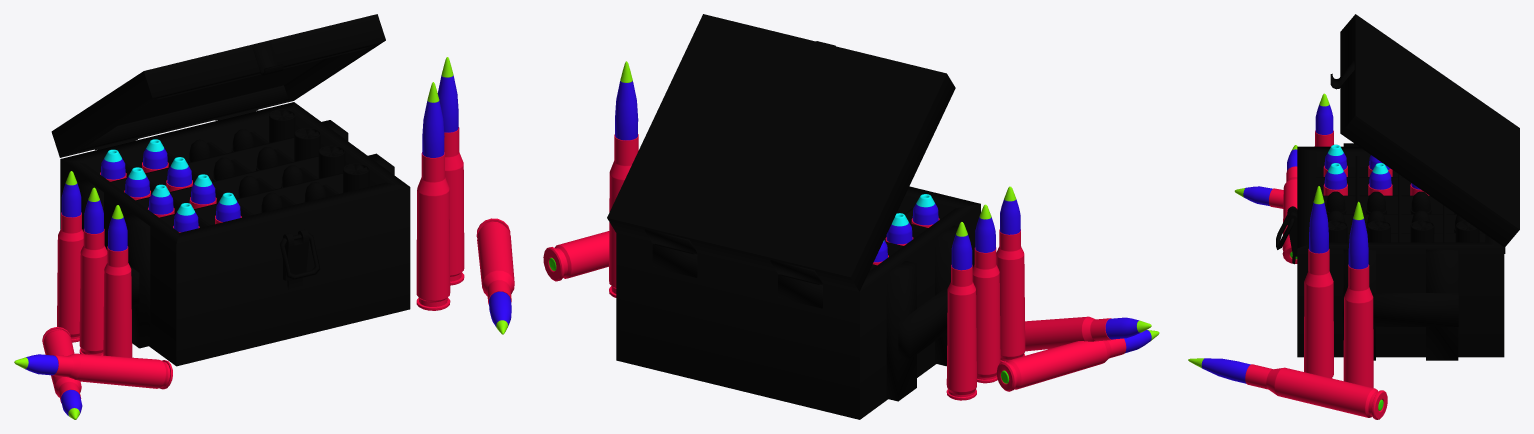
The model's file is C_silverAmmo.fbx.
The picture shows the model from 3 angles, left to right: view 1: azimuth 30°, elevation 25°; view 2: azimuth 150°, elevation 25°; view 3: azimuth 270°, elevation 25°; orthographic projection. The views are drawn at different scales.
Visible parts, largest first — view 1: C_silverAmmo; view 2: C_silverAmmo; view 3: C_silverAmmo.
Part boxes in pixels (bbox=[...]): C_silverAmmo: bbox=[14, 14, 514, 419]; C_silverAmmo: bbox=[543, 14, 1159, 419]; C_silverAmmo: bbox=[1188, 14, 1519, 419].
Bounding box in the file's own units: 0.9295 × 0.4755 × 0.556.
